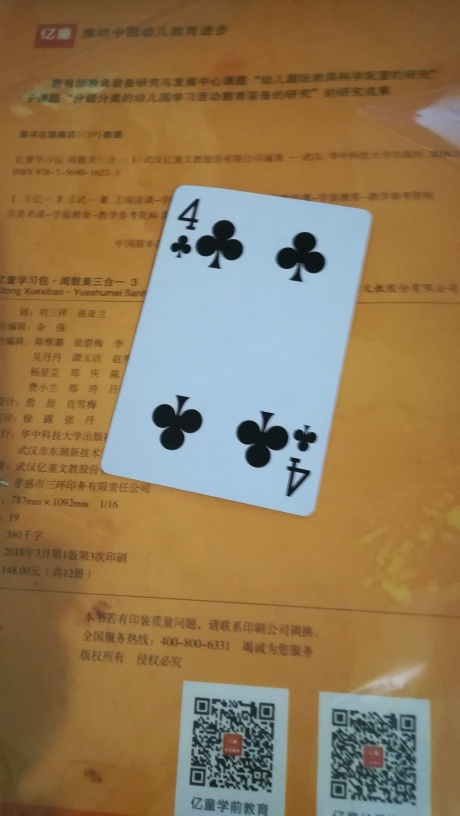mh 4: (101, 182, 377, 523)
